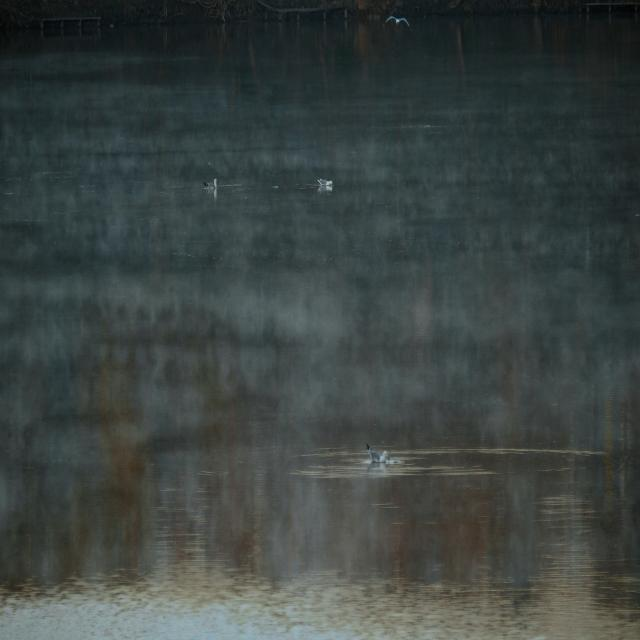bird: (311, 166, 338, 198), (363, 442, 390, 469), (382, 10, 414, 30), (205, 172, 220, 201)
